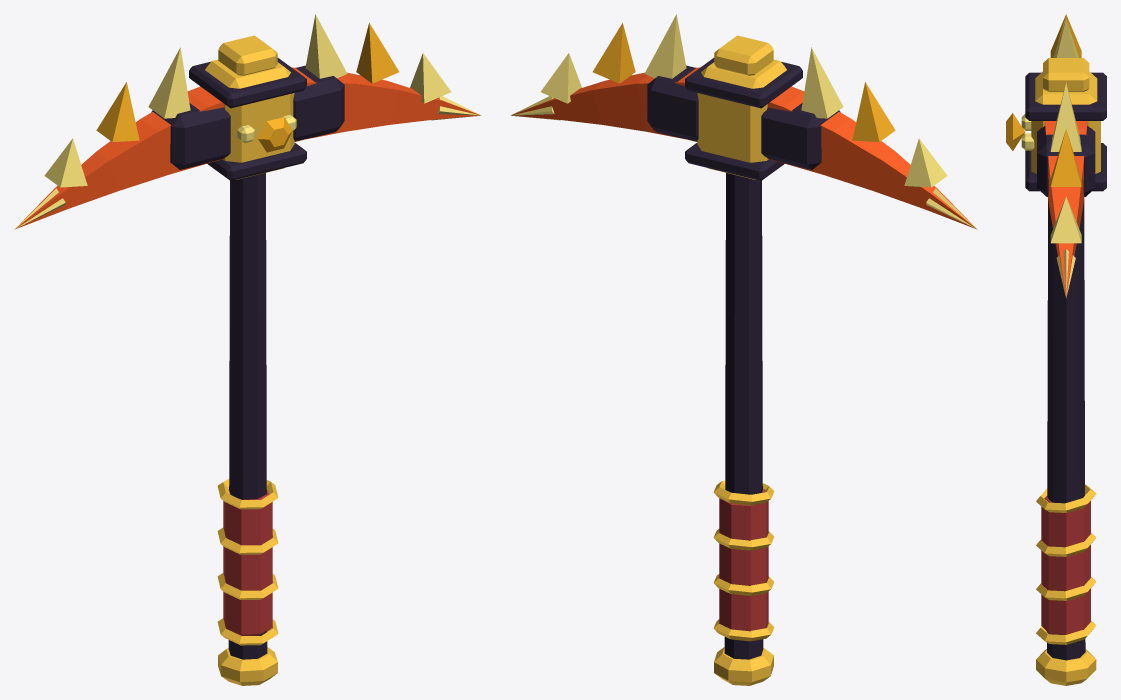
File: FlamePickaxe.fbx
The picture shows the model from 3 angles, left to right: view 1: azimuth 30°, elevation 25°; view 2: azimuth 150°, elevation 25°; view 3: azimuth 270°, elevation 25°; orthographic projection. The views are drawn at different scales.
Visible parts, largest first — view 1: FlamePickaxe; view 2: FlamePickaxe; view 3: FlamePickaxe.
Boxes of the visible parts, x1,y1,x2,y2 form: FlamePickaxe: [14, 14, 481, 685]; FlamePickaxe: [510, 14, 977, 685]; FlamePickaxe: [1006, 14, 1106, 685].
Size of the model in its own units: 2.7 by 3.56 by 0.52.
Materials: 1 (1 with a texture image).
